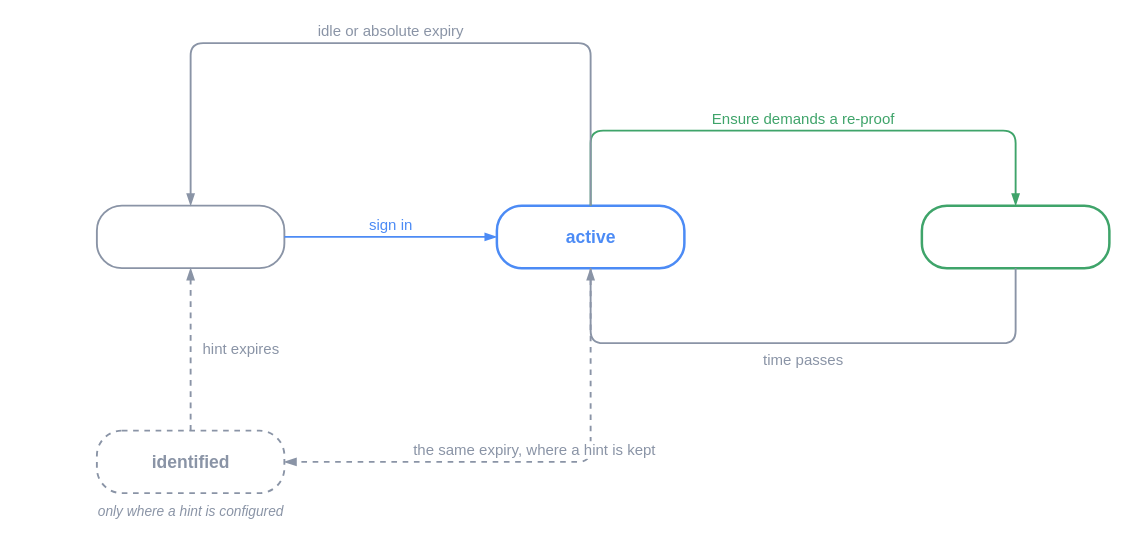
Some shapes in this 1131 by 541 pixel diagram are drawn without their labels. Here are the shapes that lost their labels. From the top down, the centre of each, then its label:
the point at 190,236: anonymous
the point at 1015,236: confirmed
